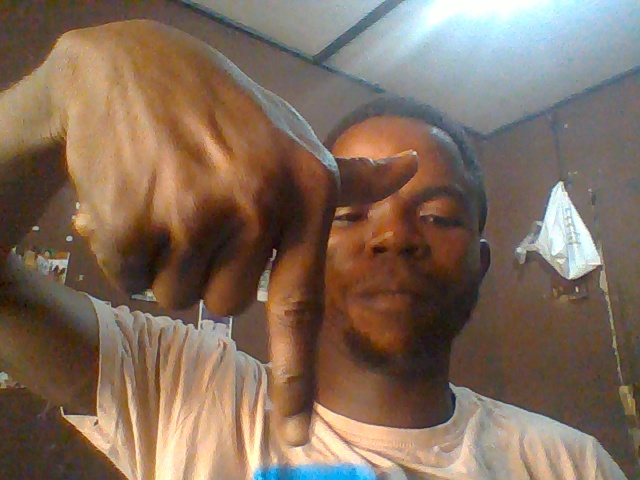Down: (47, 18, 420, 450)
